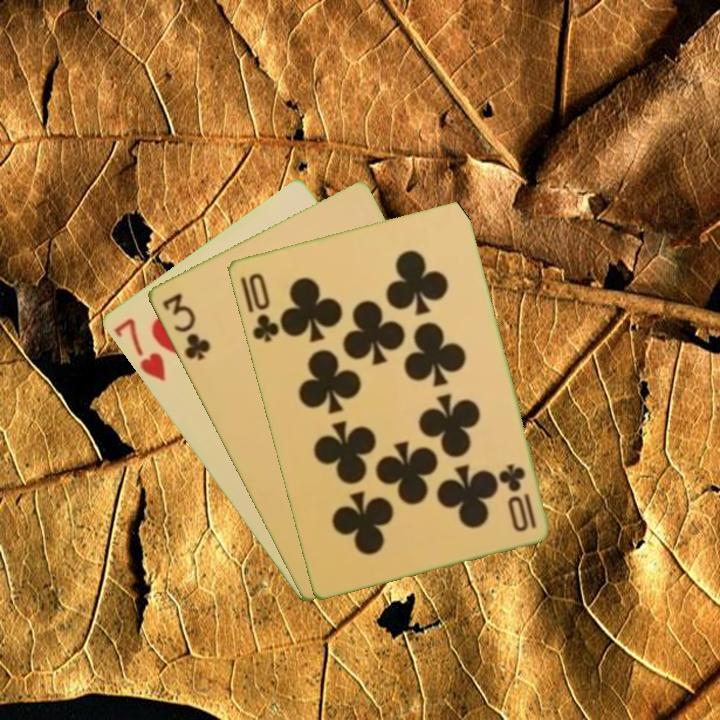10c: (496, 459, 539, 531), (244, 269, 282, 345)
3c: (158, 289, 213, 364)
7h: (109, 314, 169, 385)
